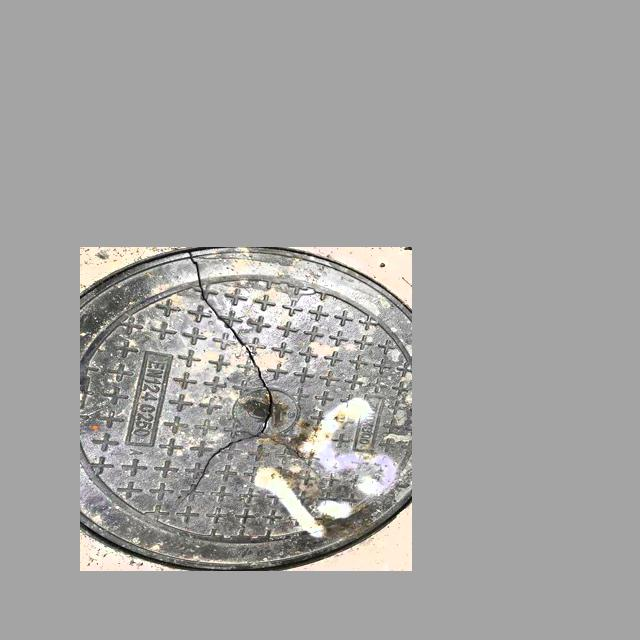broke: (83, 249, 406, 569)
